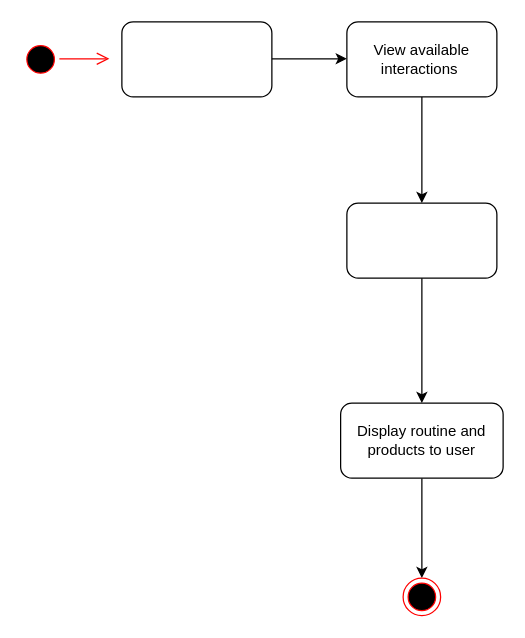
Image size: 525x638. Some labels were removed from this diagram. Here are the shapes that lost their labels. From the top down, the box of each, then its label:
(121, 21, 272, 97): Registered User arrives at profile page
(346, 202, 497, 278): Select interaction
